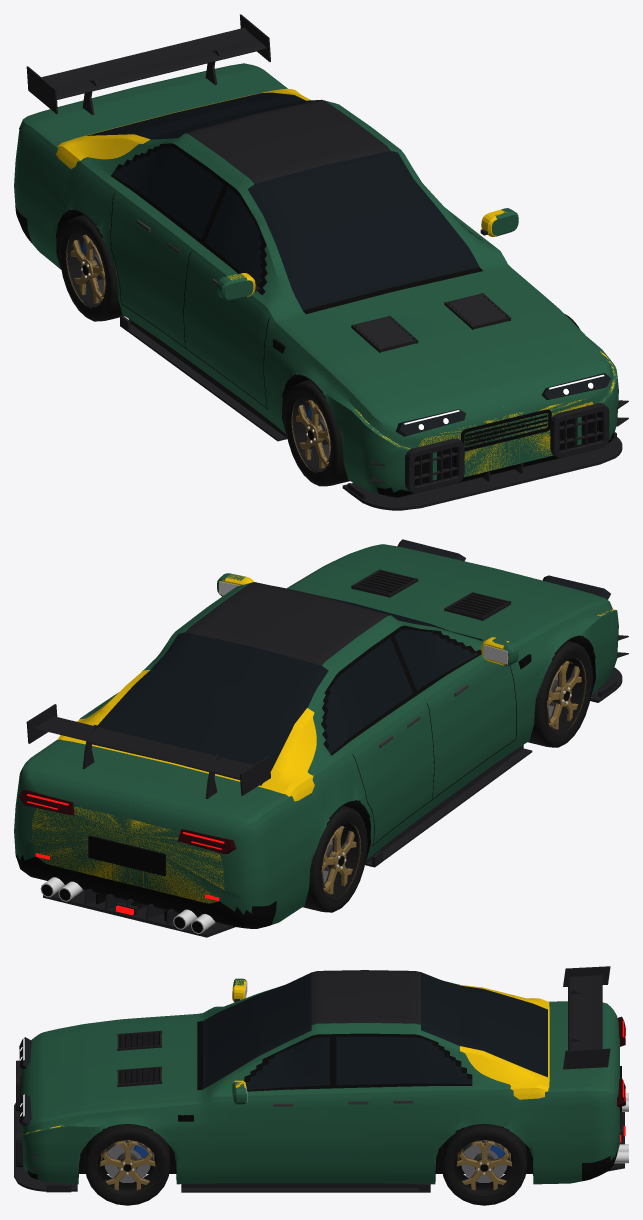
File: falke.glb
The picture shows the model from 3 angles, top to bottom: view 1: azimuth 30°, elevation 25°; view 2: azimuth 150°, elevation 25°; view 3: azimuth 270°, elevation 25°; orthographic projection. The views are drawn at different scales.
Parts seen in each view (by area): view 1: Shell (×2), Body, Mod_Wing, Wheel_FR (×2), Wheel_RR (×2), Mod_FrontIntakes, Mod_FrontLip, Mod_SideSkirts (×2), Mod_HoodVents; view 2: Shell (×2), Body (×2), Wheel_FR (×2), Mod_Wing, Wheel_RR (×2), Mod_SideSkirts (×2), Mod_HoodVents (×2), Mod_Diffuser; view 3: Shell (×2), Wheel_FL (×2), Wheel_RL (×2), Mod_Wing, Body (×2), Mod_SideSkirts, Mod_HoodVents, Mod_FrontLip, Mod_FrontIntakes.
Boxes of the visible parts, x1=… form: Shell (×2): x1=14, y1=63, x2=618, y2=497; Body: x1=19, y1=128, x2=610, y2=485; Mod_Wing: x1=26, y1=14, x2=270, y2=115; Wheel_FR (×2): x1=284, y1=380, x2=349, y2=486; Wheel_RR (×2): x1=59, y1=215, x2=124, y2=321; Mod_FrontIntakes: x1=405, y1=402, x2=609, y2=493; Mod_FrontLip: x1=342, y1=432, x2=622, y2=510; Mod_SideSkirts (×2): x1=120, y1=315, x2=287, y2=441; Mod_HoodVents: x1=351, y1=293, x2=510, y2=352; Shell (×2): x1=14, y1=544, x2=618, y2=928; Body (×2): x1=19, y1=539, x2=610, y2=933; Wheel_FR (×2): x1=528, y1=641, x2=592, y2=747; Mod_Wing: x1=26, y1=704, x2=270, y2=799; Wheel_RR (×2): x1=303, y1=806, x2=367, y2=912; Mod_SideSkirts (×2): x1=365, y1=745, x2=532, y2=867; Mod_HoodVents (×2): x1=351, y1=569, x2=511, y2=620; Mod_Diffuser: x1=43, y1=889, x2=235, y2=937; Shell (×2): x1=21, y1=970, x2=619, y2=1184; Wheel_FL (×2): x1=84, y1=1124, x2=170, y2=1205; Wheel_RL (×2): x1=441, y1=1124, x2=527, y2=1205; Mod_Wing: x1=563, y1=966, x2=610, y2=1069; Body (×2): x1=19, y1=978, x2=628, y2=1173; Mod_SideSkirts: x1=181, y1=1183, x2=430, y2=1192; Mod_HoodVents: x1=117, y1=1030, x2=162, y2=1087; Mod_FrontLip: x1=14, y1=1103, x2=77, y2=1192; Mod_FrontIntakes: x1=16, y1=1060, x2=23, y2=1167.
Size of the model in its own units: 2.17 by 1.44 by 4.93.
